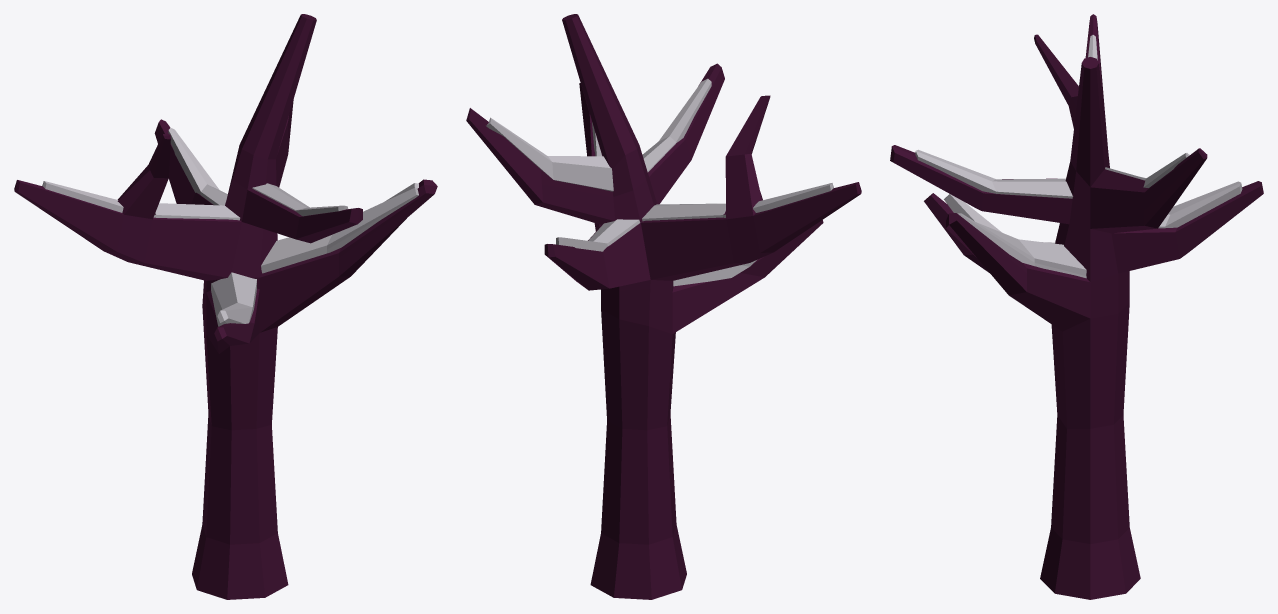
The model's file is Tree_Seco_Snow.fbx.
The picture shows the model from 3 angles, left to right: view 1: azimuth 30°, elevation 25°; view 2: azimuth 150°, elevation 25°; view 3: azimuth 270°, elevation 25°; orthographic projection.
Visible parts, largest first — view 1: Mesh; view 2: Mesh; view 3: Mesh.
Boxes of the visible parts, box(x1,y1,x2,y2) form: Mesh: box(14, 14, 437, 599); Mesh: box(466, 14, 861, 599); Mesh: box(890, 14, 1263, 599).
Size of the model in its own units: 8.78 by 13.09 by 8.03.
